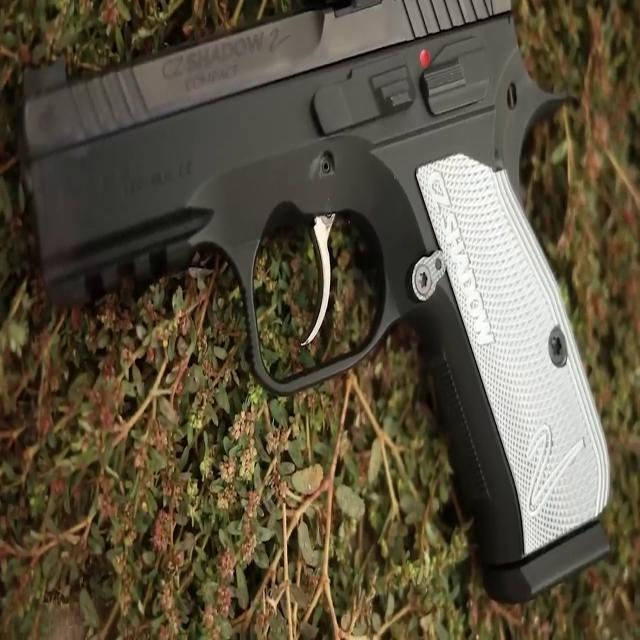Handgun: (11, 5, 605, 615)
